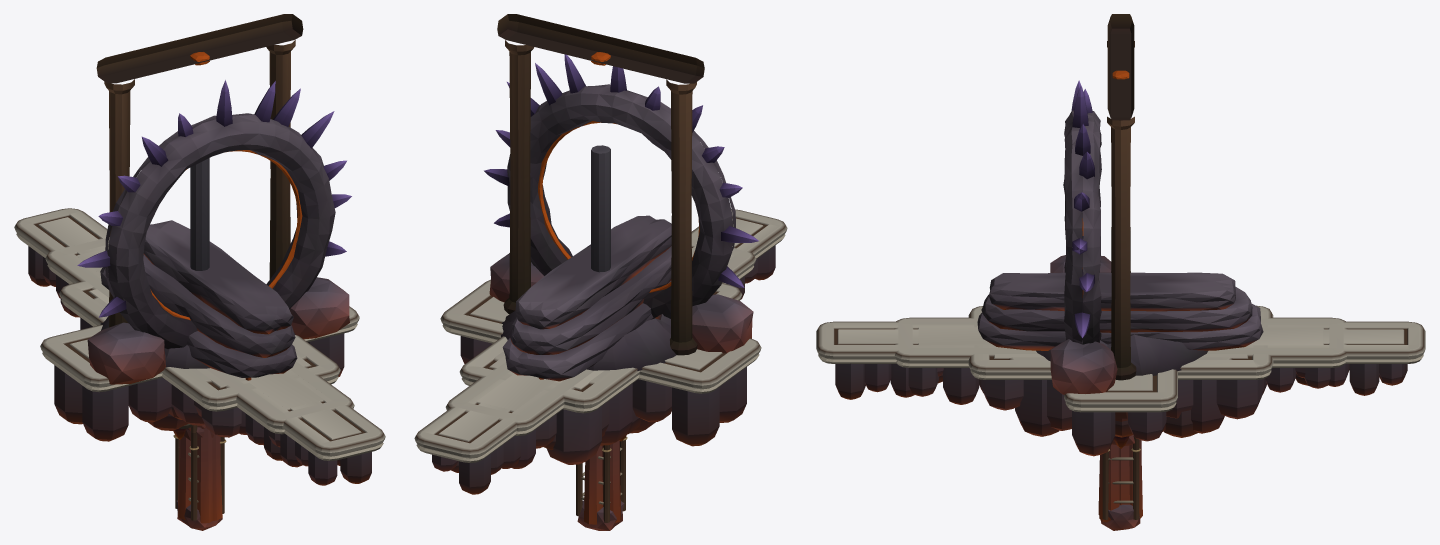
File: volcano-5-BOOYcUyd.glb
3 renders of one model, left to right at view 1: azimuth 30°, elevation 25°; view 2: azimuth 150°, elevation 25°; view 3: azimuth 270°, elevation 25°, orthographic. The views are drawn at different scales.
Visible parts, largest first — view 1: portal_#0, spout_2x12#0, pressFrame_7.5x6x2.5x7#0, block_4x2x32_grate#0, block_16x2x6#0, block_5x2x24#0, block_8x2x16#0, support_0_round#0, press_3.5x6x2#0, truss_10#0, geyserVent_5.4#0; view 2: portal_#0, pressFrame_7.5x6x2.5x7#0, spout_2x12#0, block_16x2x6#0, block_4x2x32_grate#0, block_8x2x16#0, block_5x2x24#0, geyserVent_5.4#0, press_3.5x6x2#0, support_0_round#0, truss_10#0, block_7x2x12#0; view 3: spout_2x12#0, block_4x2x32_grate#0, portal_#0, block_5x2x24#0, block_8x2x16#0, pressFrame_7.5x6x2.5x7#0, block_16x2x6#0, block_7x2x12#0, geyserVent_5.4#0, support_0_round#0, truss_10#0, block_7x2x10#0.
Boxes of the visible parts, bbox=[...] form: portal_#0: bbox=[77, 80, 351, 384]; spout_2x12#0: bbox=[100, 220, 297, 380]; pressFrame_7.5x6x2.5x7#0: bbox=[96, 14, 303, 327]; block_4x2x32_grate#0: bbox=[14, 208, 385, 485]; block_16x2x6#0: bbox=[40, 306, 359, 441]; block_5x2x24#0: bbox=[45, 237, 354, 447]; block_8x2x16#0: bbox=[59, 278, 340, 437]; support_0_round#0: bbox=[178, 425, 222, 523]; press_3.5x6x2#0: bbox=[173, 158, 209, 439]; truss_10#0: bbox=[173, 425, 226, 530]; geyserVent_5.4#0: bbox=[100, 316, 295, 368]; portal_#0: bbox=[484, 54, 758, 353]; pressFrame_7.5x6x2.5x7#0: bbox=[497, 14, 704, 355]; spout_2x12#0: bbox=[502, 215, 671, 381]; block_16x2x6#0: bbox=[440, 279, 761, 446]; block_4x2x32_grate#0: bbox=[414, 209, 787, 494]; block_8x2x16#0: bbox=[459, 283, 742, 464]; block_5x2x24#0: bbox=[445, 238, 756, 468]; geyserVent_5.4#0: bbox=[501, 310, 676, 370]; press_3.5x6x2#0: bbox=[591, 145, 626, 441]; support_0_round#0: bbox=[584, 440, 621, 524]; truss_10#0: bbox=[576, 436, 627, 530]; block_7x2x12#0: bbox=[493, 351, 641, 436]; spout_2x12#0: bbox=[977, 272, 1263, 350]; block_4x2x32_grate#0: bbox=[816, 321, 1425, 399]; portal_#0: bbox=[1050, 80, 1117, 394]; block_5x2x24#0: bbox=[894, 317, 1347, 404]; block_8x2x16#0: bbox=[968, 305, 1273, 430]; pressFrame_7.5x6x2.5x7#0: bbox=[1107, 14, 1136, 380]; block_16x2x6#0: bbox=[1064, 369, 1177, 456]; block_7x2x12#0: bbox=[1009, 357, 1232, 436]; geyserVent_5.4#0: bbox=[1036, 334, 1208, 375]; support_0_round#0: bbox=[1098, 440, 1142, 522]; truss_10#0: bbox=[1100, 436, 1140, 530]; block_7x2x10#0: bbox=[1115, 410, 1198, 437].
Size of the model in its own units: 16.21 by 27.15 by 32.
